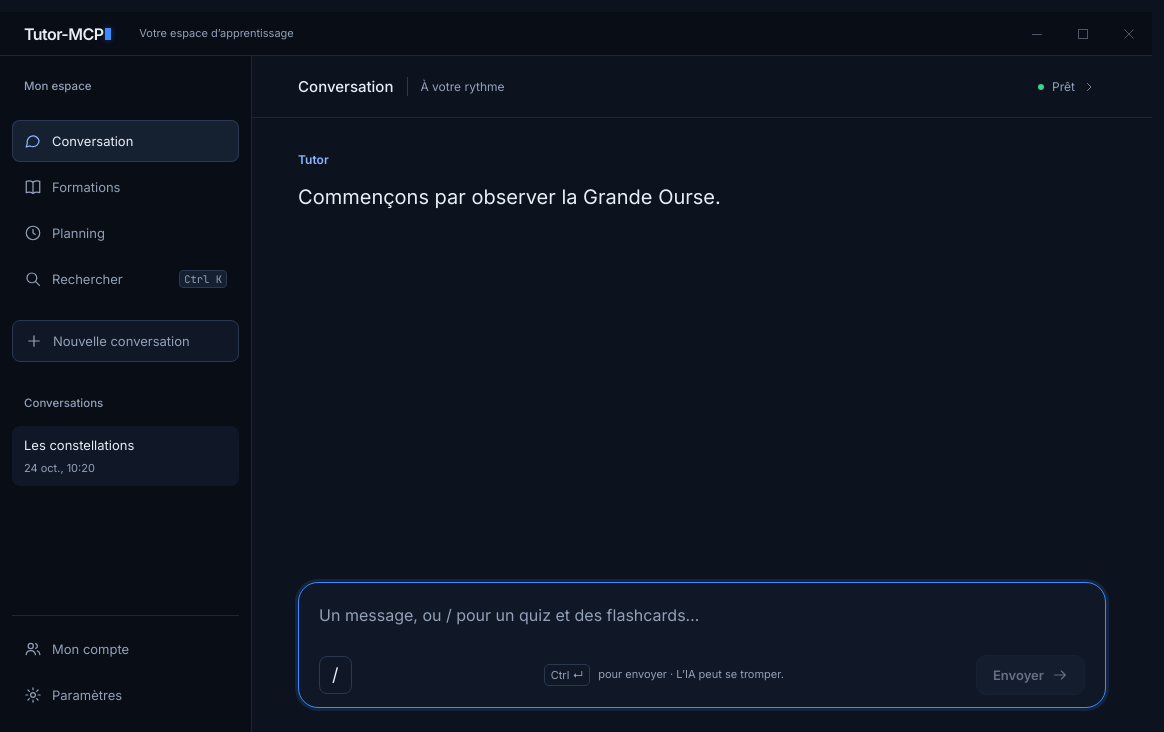
Test: Apprendre depuis la conversation › reprend la conversation existante sans rejouer un ancien message
Expected: the text "Commençons par observer la Grande Ourse." is shown, [298,185,721,209]
Type "Continuons" into the text box named "Votre message au tuteur" at (702, 623), box [319,603,1085,643]
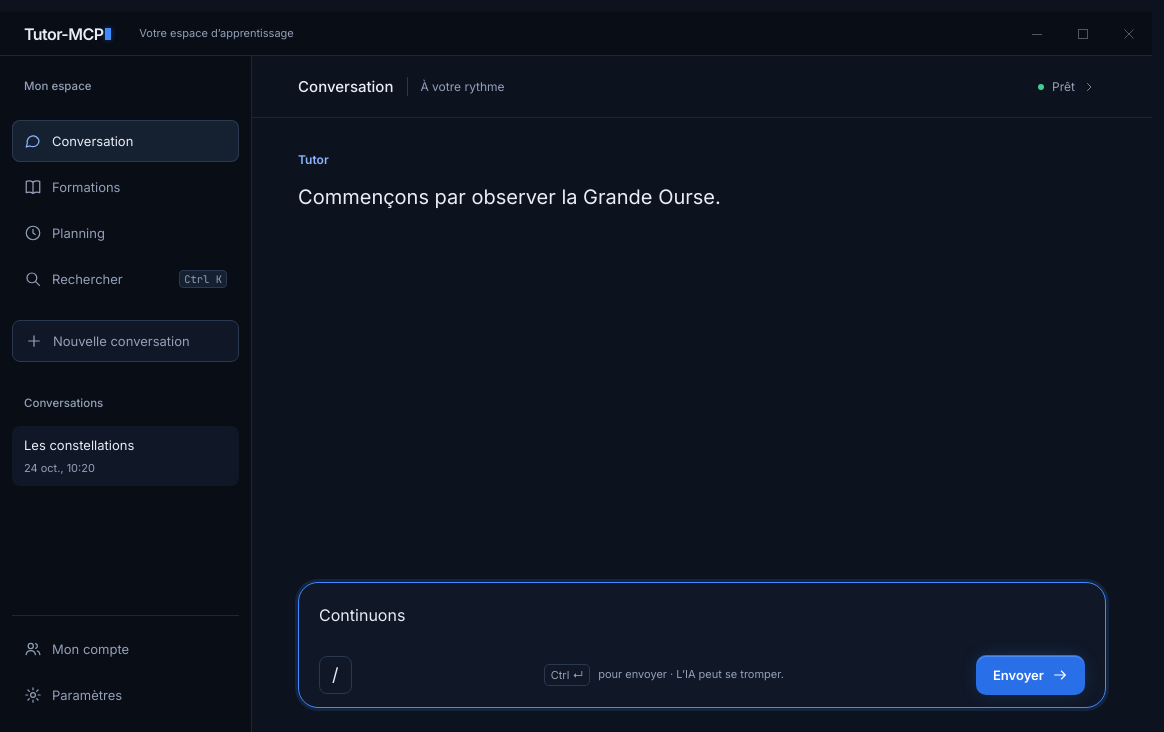
Click the button "Envoyer" at (1030, 675), box [976,655,1085,695]
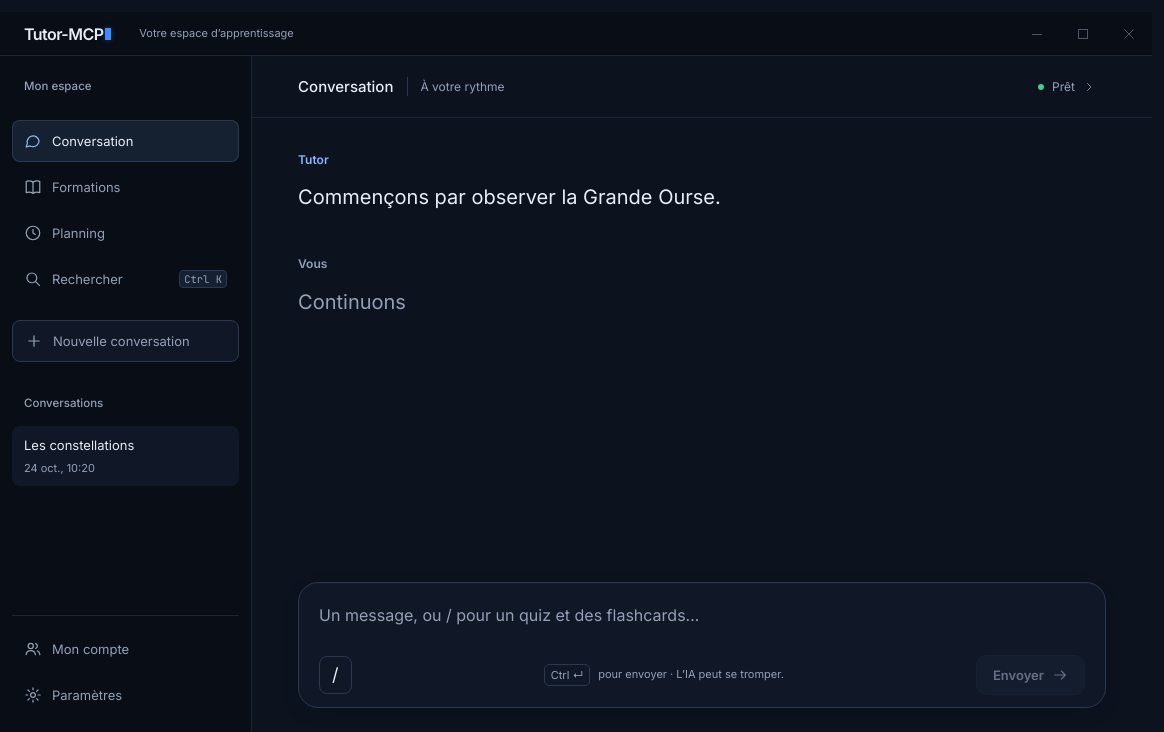
Now the text "Commençons par observer la Grande Ourse." is shown once, box [298,185,721,209]
